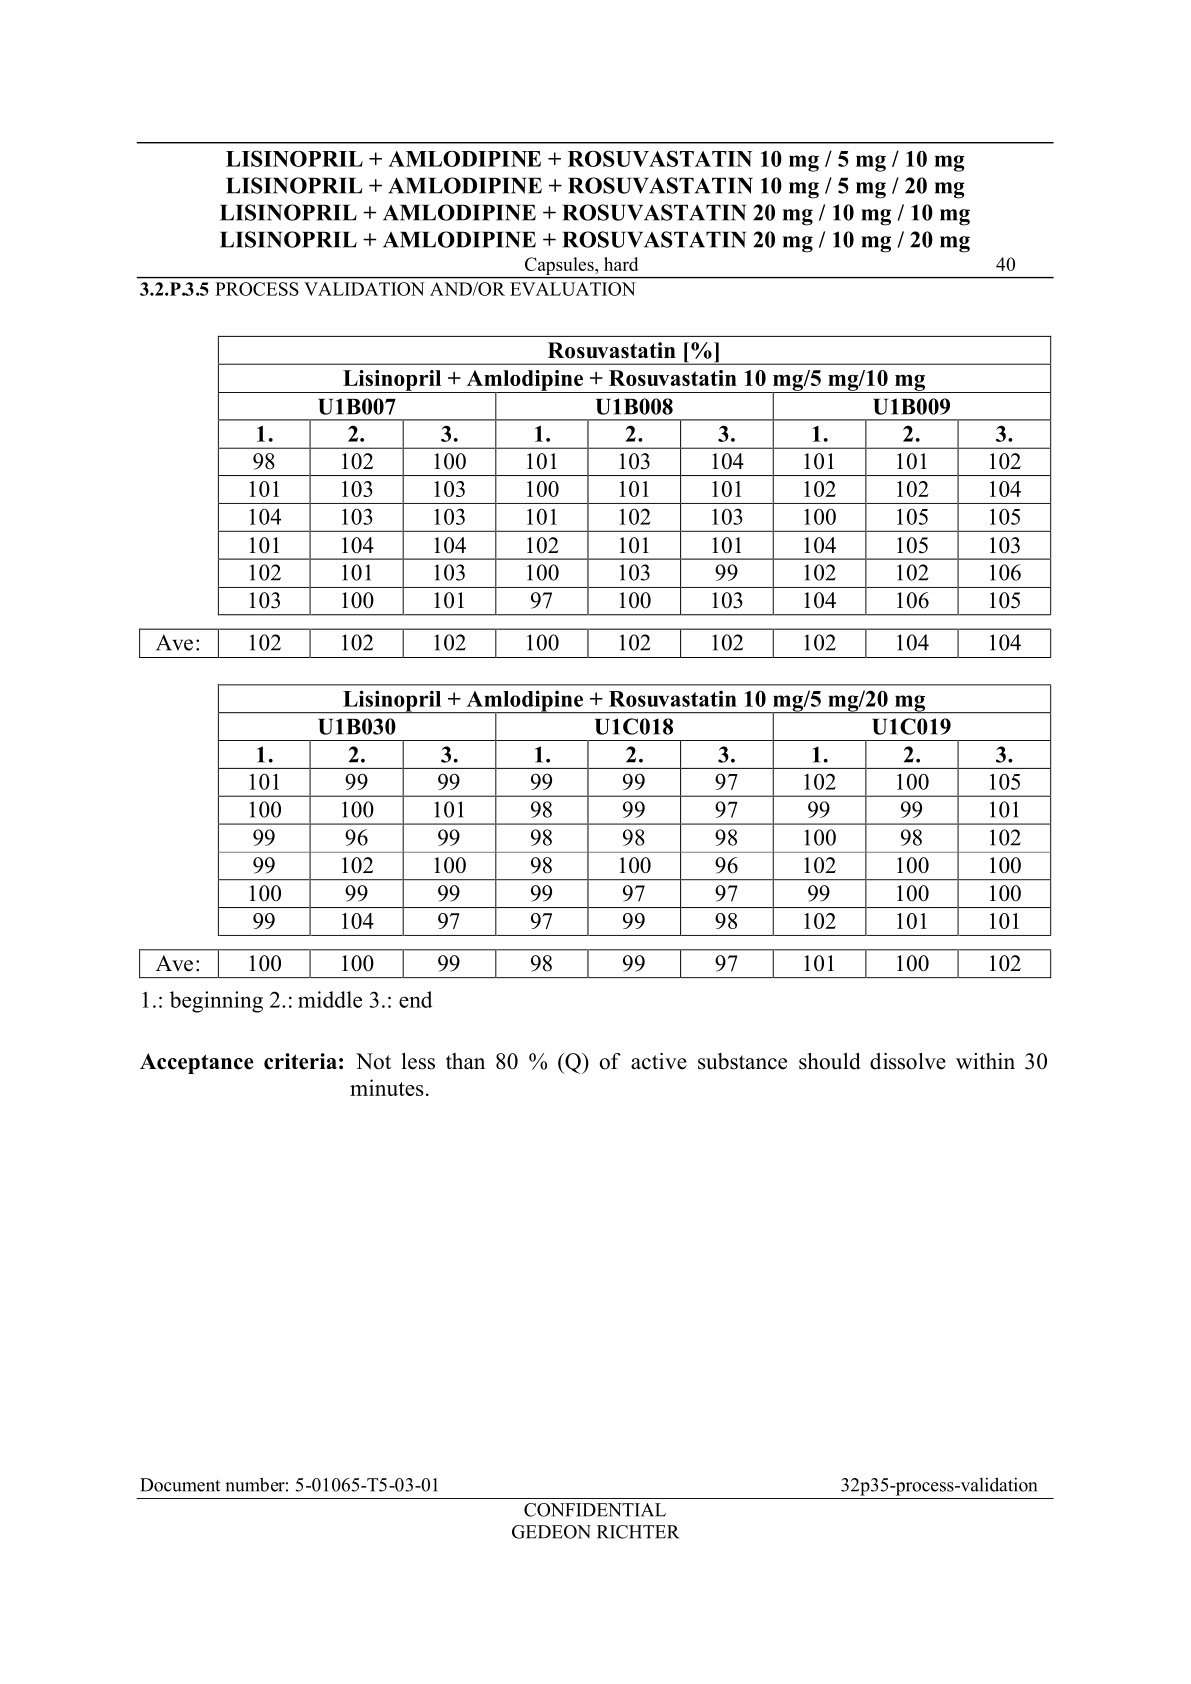full_lined: (138, 948, 1052, 979), (138, 627, 1052, 658)
merged_cells: (217, 335, 1052, 616), (217, 684, 1052, 937)
